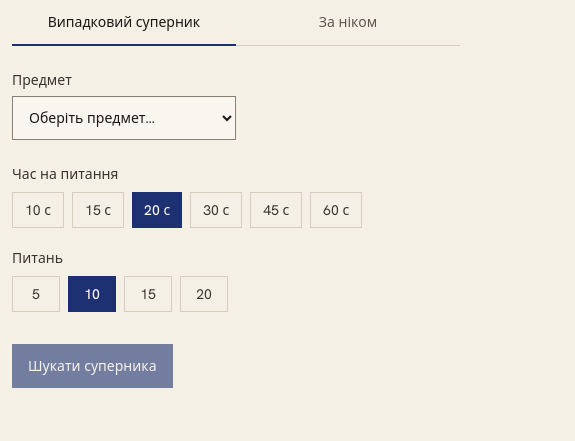
it: LivePlaySection › says how many fit when the chosen count is more than the time allows
Select "Математика" in the dropdown labelled "Предмет" at [124, 118], box 12,96 -> 236,140
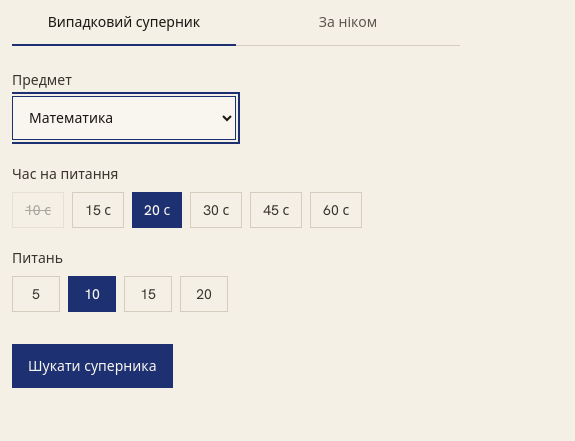
Expected: the button "10 с" is disabled, 12,192 -> 64,228
Click the button "15 с" at [98, 210], box 72,192 -> 124,228
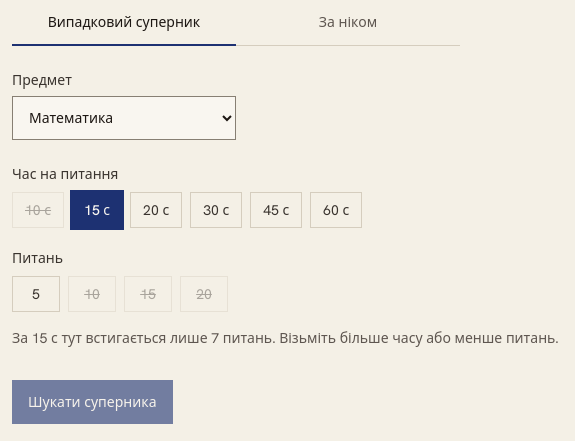
Expected: the text "встигається лише 7 питань" is shown, 12,329 -> 559,347
Expected: the button "Шукати суперника" is disabled, 12,380 -> 172,424
# Five of those seven still make a game.
Click the button "5" at [36, 294], box 12,276 -> 60,312
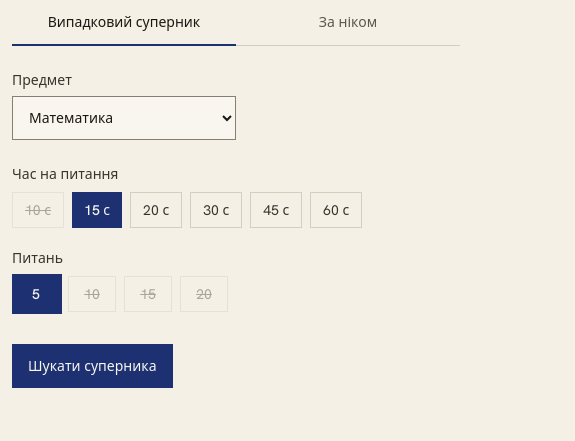
Expected: the button "Шукати суперника" is enabled, 12,344 -> 172,388
